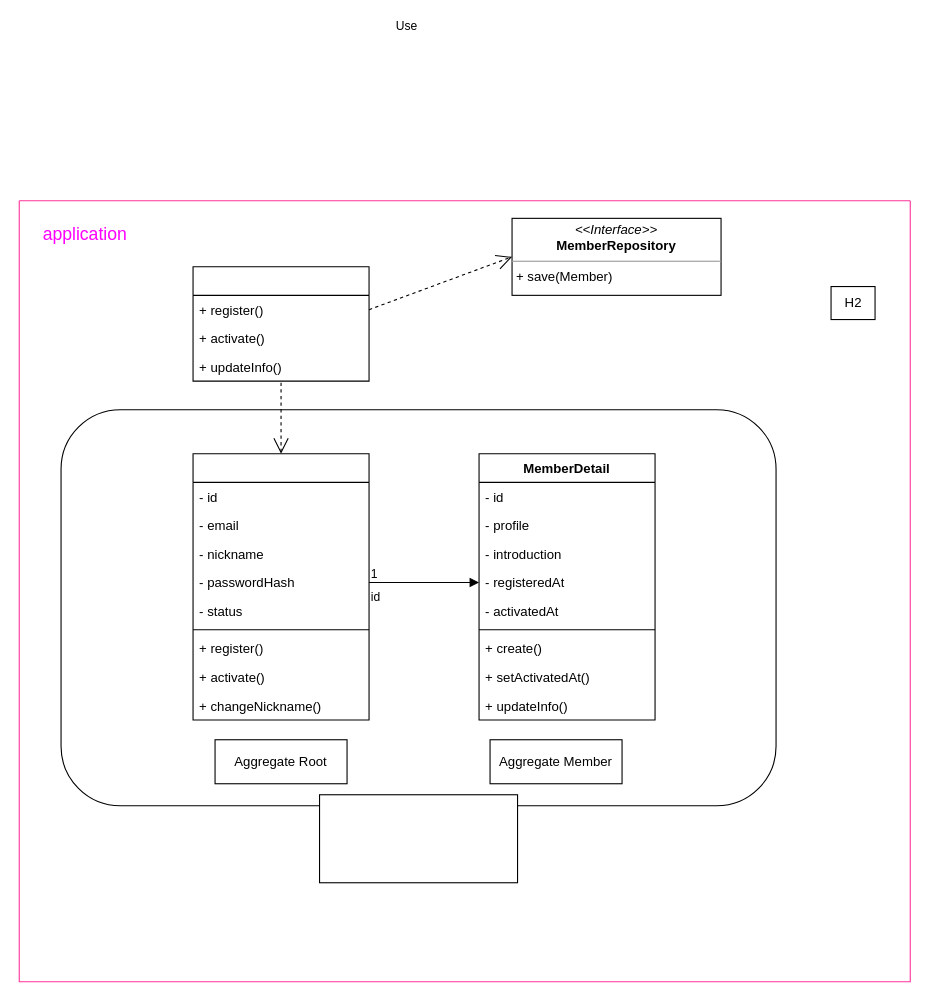
Image size: 930x1001. Some labels were removed from this diagram. The box of each missing label's shape, as (x1, y1, x2, y2) in pixels:
Member: (192, 453, 369, 720)
Member Aggregate: (318, 794, 518, 883)
MemberModifyService: (192, 266, 369, 381)
